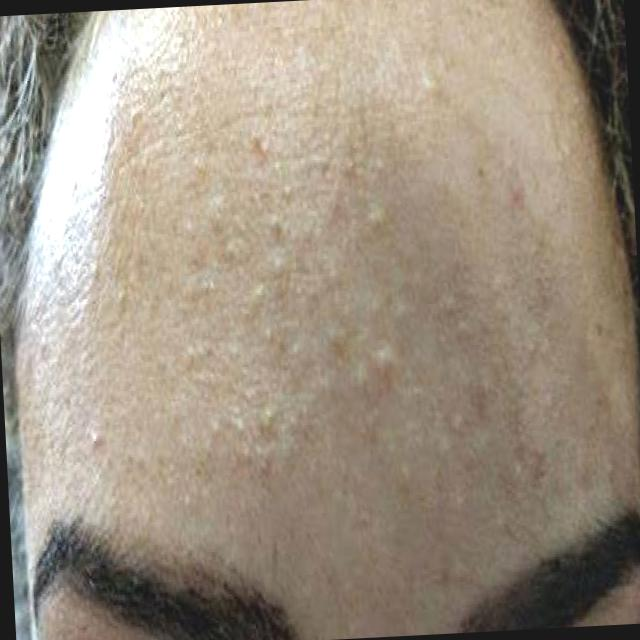fungal: (104, 102, 579, 517)
